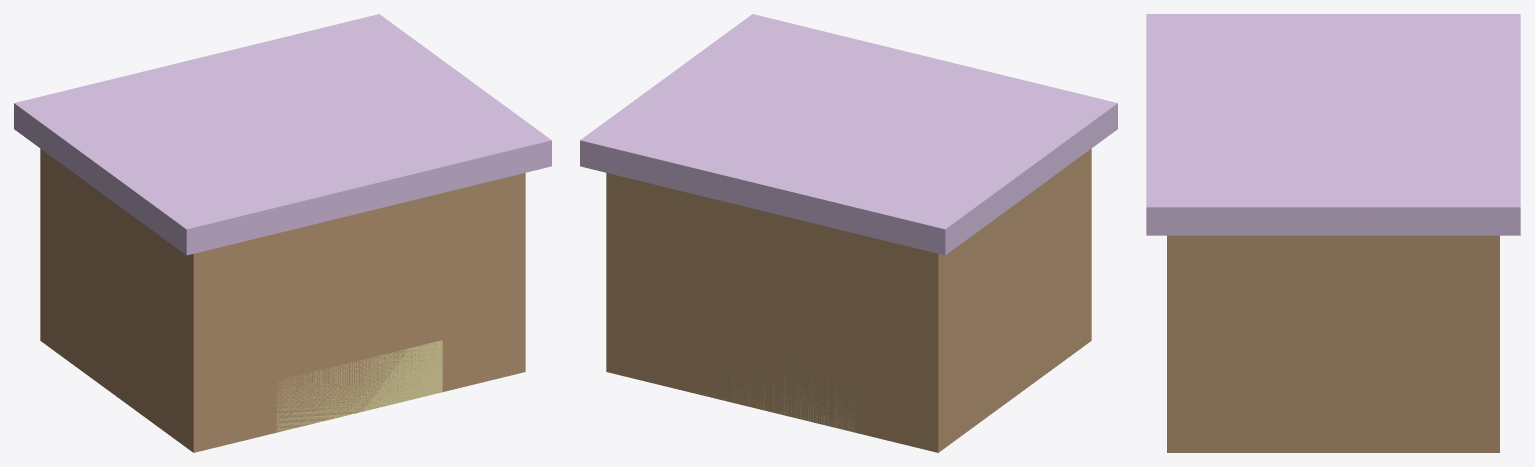
Rendered from Prop_Live_AMF_GoatShelter_V9.glb.
The picture shows the model from 3 angles, left to right: view 1: azimuth 30°, elevation 25°; view 2: azimuth 150°, elevation 25°; view 3: azimuth 270°, elevation 25°; orthographic projection. The views are drawn at different scales.
Parts seen in each view (by area): view 1: Prop_Live_AMF_GoatShelter_V9; view 2: Prop_Live_AMF_GoatShelter_V9; view 3: Prop_Live_AMF_GoatShelter_V9.
Part boxes in pixels (<box>): Prop_Live_AMF_GoatShelter_V9: <box>14,14,551,452</box>; Prop_Live_AMF_GoatShelter_V9: <box>580,14,1117,452</box>; Prop_Live_AMF_GoatShelter_V9: <box>1146,14,1520,452</box>.
Size of the model in its own units: 2.2 by 1.35 by 1.8.
